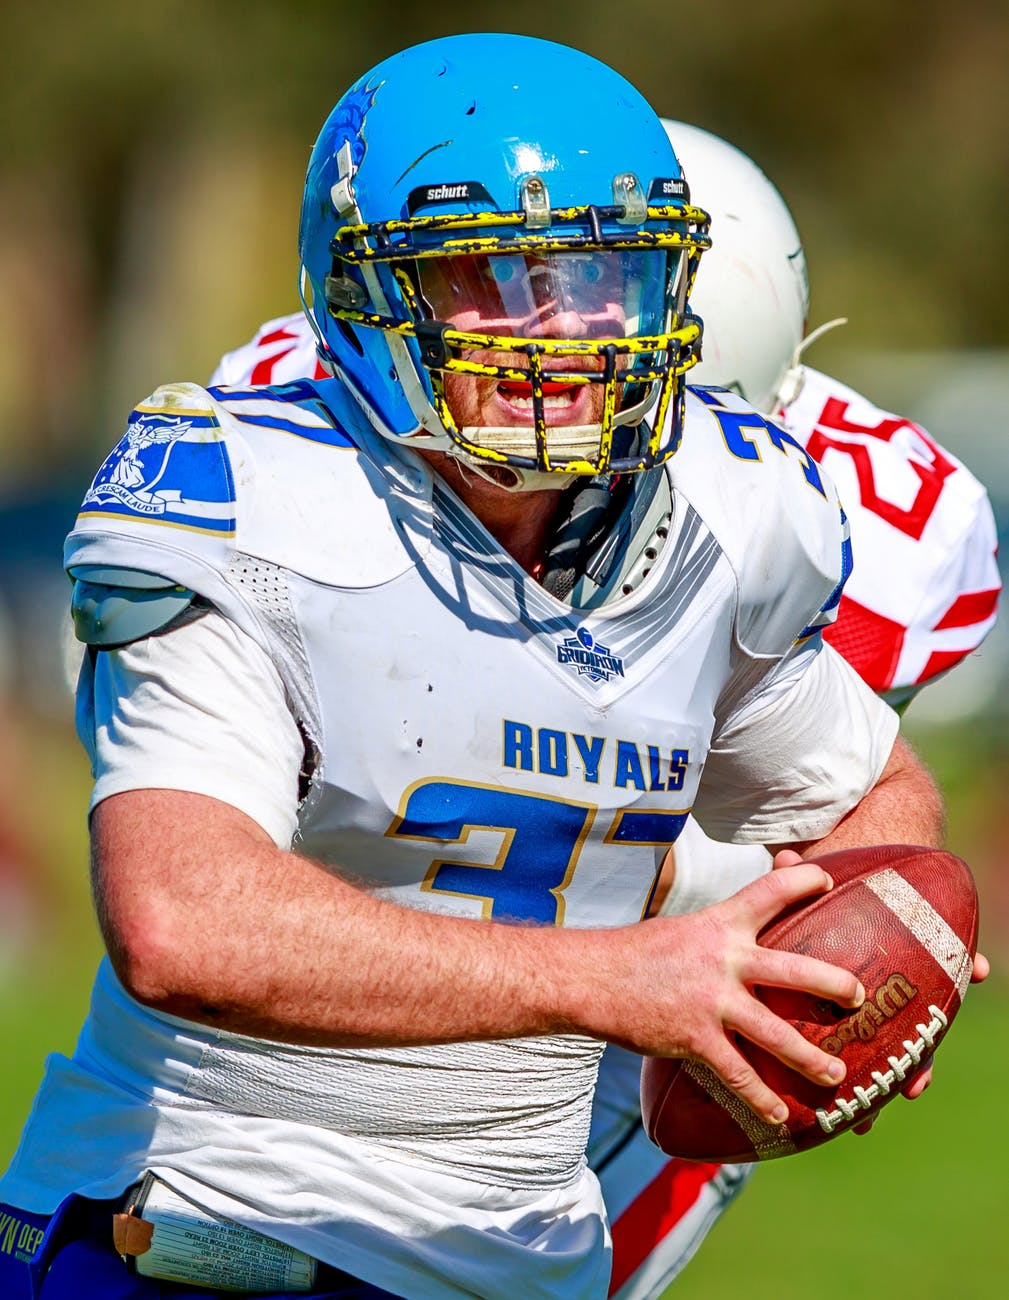helmet: (293, 51, 715, 457)
